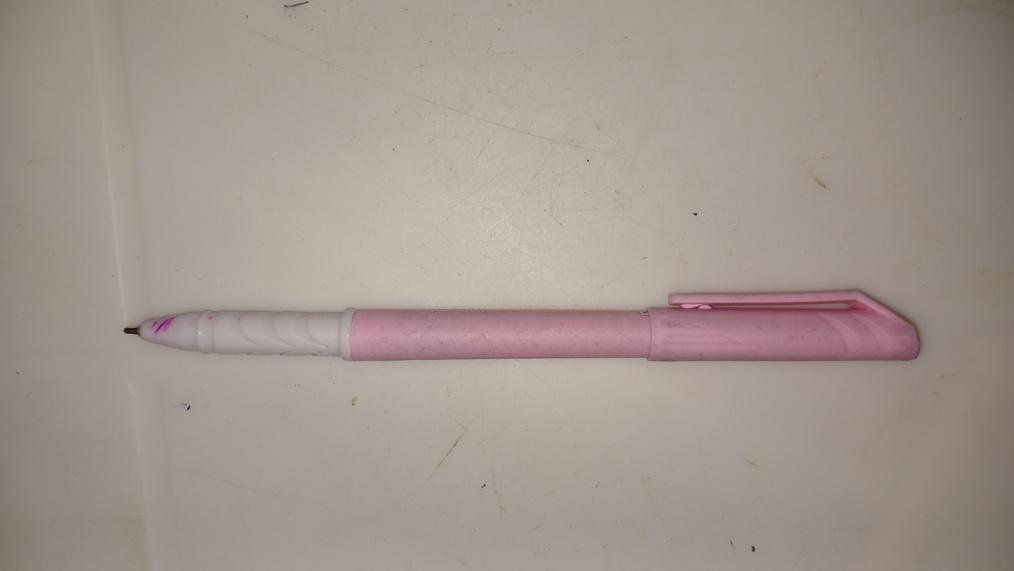pen: (126, 289, 922, 357)
